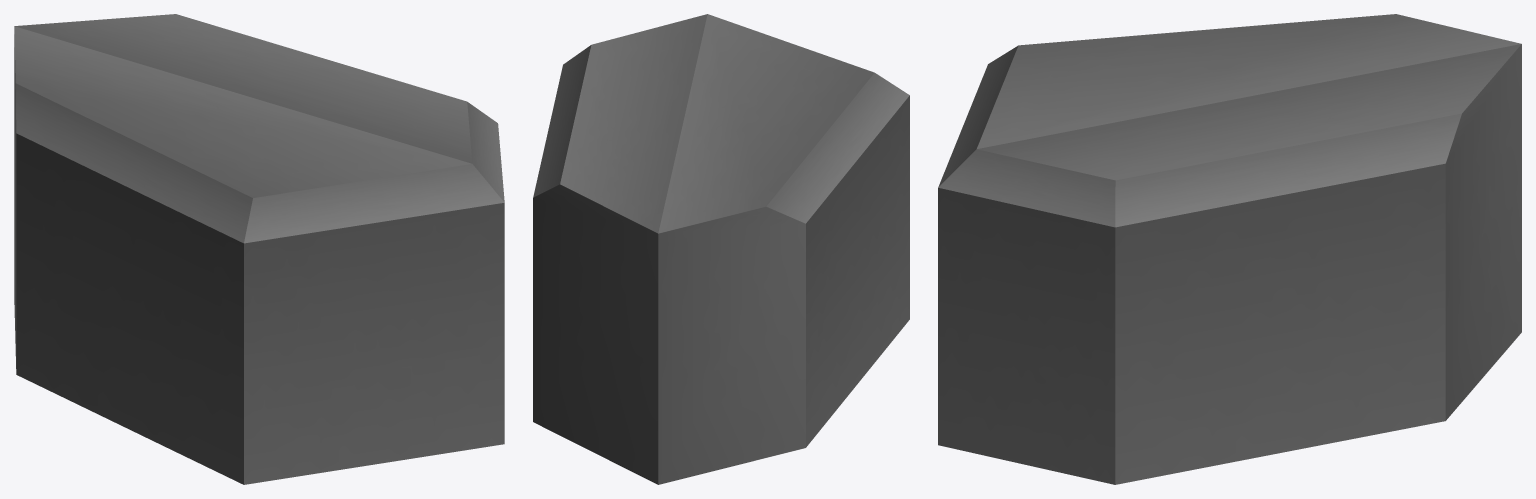
File: pack02_rocks_04.fbx
3 views of the same model, side by side, from view 1: azimuth 30°, elevation 25°; view 2: azimuth 150°, elevation 25°; view 3: azimuth 270°, elevation 25° (orthographic). The views are drawn at different scales.
Visible parts, largest first — view 1: Rock Type1 04 mesh; view 2: Rock Type1 04 mesh; view 3: Rock Type1 04 mesh.
Boxes of the visible parts, box(x1,y1,x2,y2) form: Rock Type1 04 mesh: box(14, 14, 504, 484); Rock Type1 04 mesh: box(533, 14, 909, 484); Rock Type1 04 mesh: box(938, 14, 1521, 484).
Bounding box in the file's own units: 56.06 × 39.01 × 71.52.
Materials: 1 (1 with a texture image).
